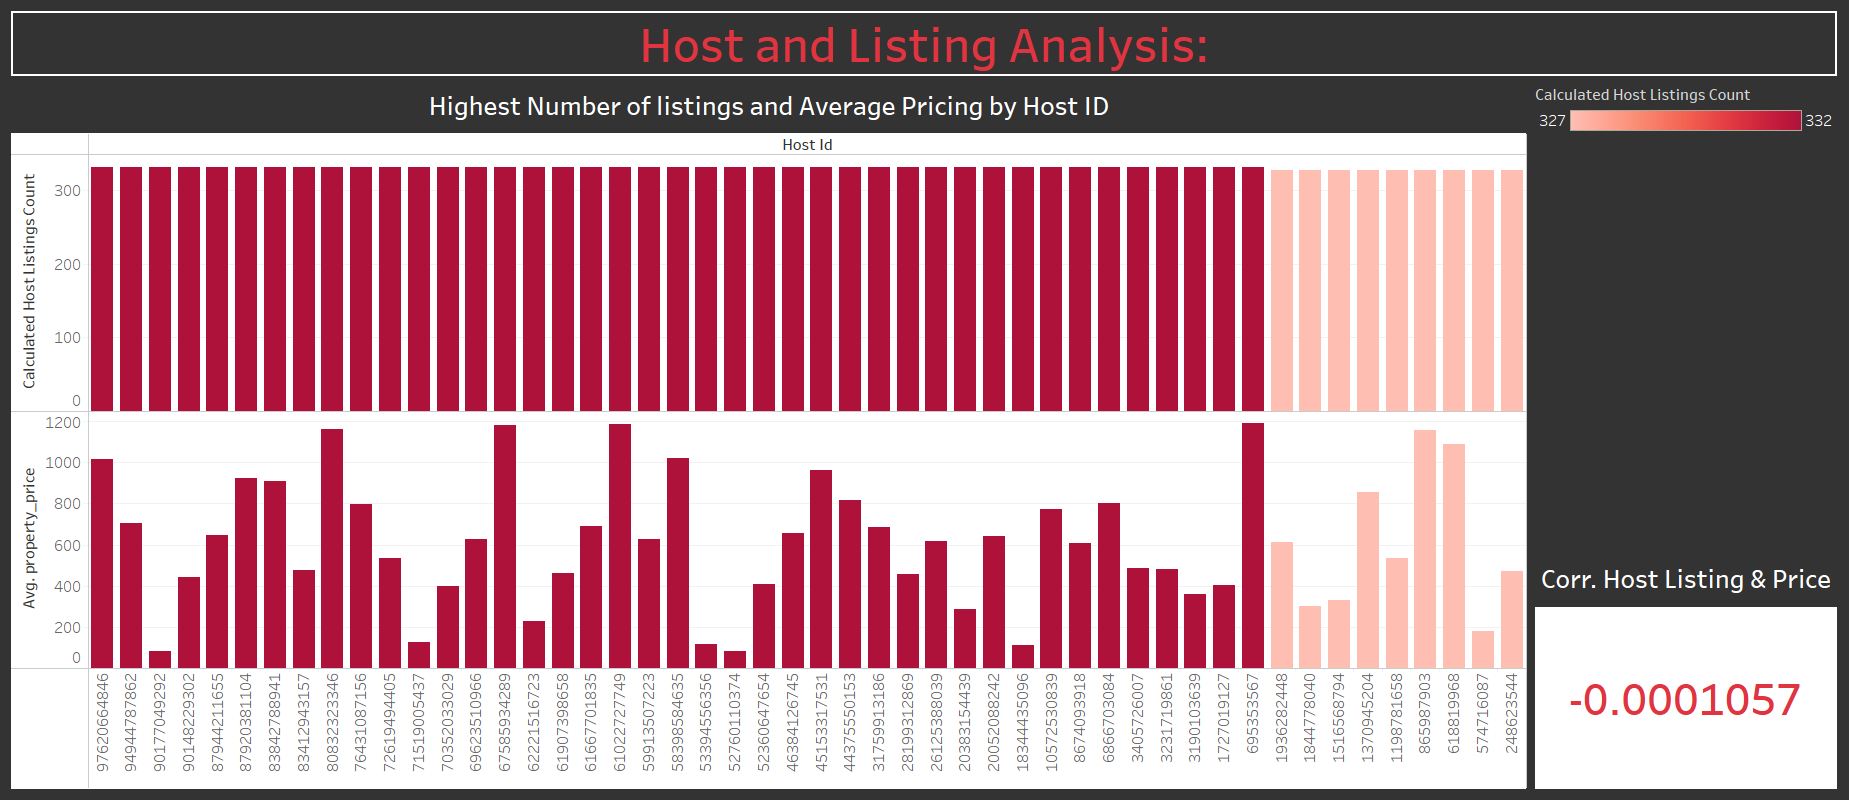

Layout of this report page (visuals, bound fields, positions):
{"tool":"tableau","page":{"name":"Dashboard 3","canvas":[1000,1000],"units":"permille","ordinal":2},"visuals":[{"type":"title","box":[4.3,10,991.4,91]},{"type":"worksheet","title":"Sheet 8","mark":"Automatic","rows":["calculated host listings count","price - Split 2"],"cols":["host id"],"box":[4.3,101,823.8,889]},{"type":"legend","title":"Sheet 8","param":"[federated.0m09iuw1bli8uh12t0umq16q7wme].[sum:calculated host listings count:qk]","box":[828.1,101,167.6,589.8]},{"type":"worksheet","title":"Sheet 11","mark":"Automatic","box":[828.1,690.8,167.6,299.2]}]}

Visuals, with their boxes on the dashboard's canvas, which has no fixed pixel size, in thousandths of its width and height (x1, y1, x2, y2). These are canvas units, not pixel positions in the 1849x800 screenshot, which may show the page scaled, cropped or inside an application window:
title: region(4, 10, 996, 101)
"Sheet 8" worksheet: region(4, 101, 828, 990)
"Sheet 8" legend: region(828, 101, 996, 691)
"Sheet 11" worksheet: region(828, 691, 996, 990)
